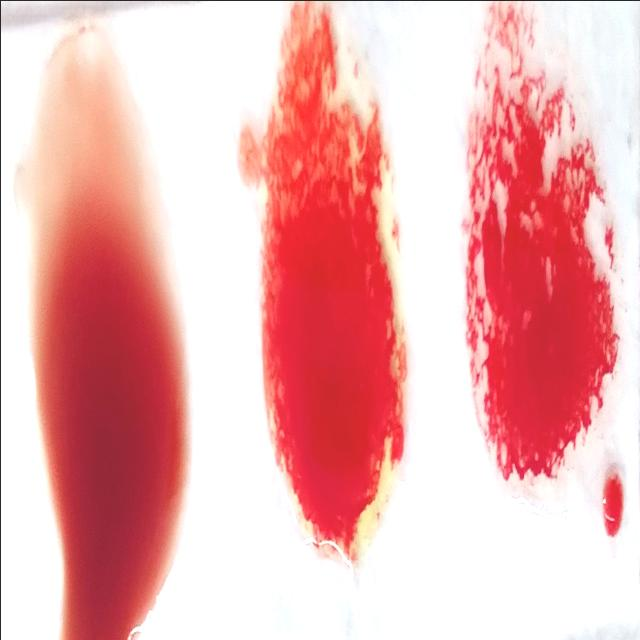B: (254, 1, 396, 546)
D: (475, 1, 605, 530)
